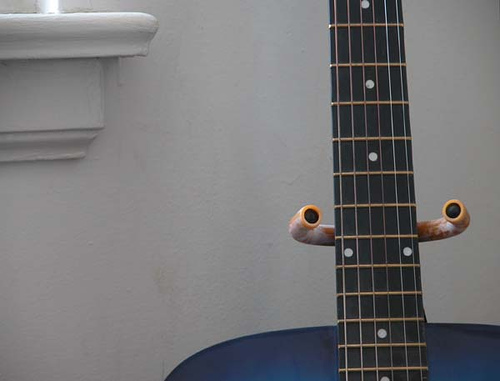guitar: (161, 1, 500, 381)
